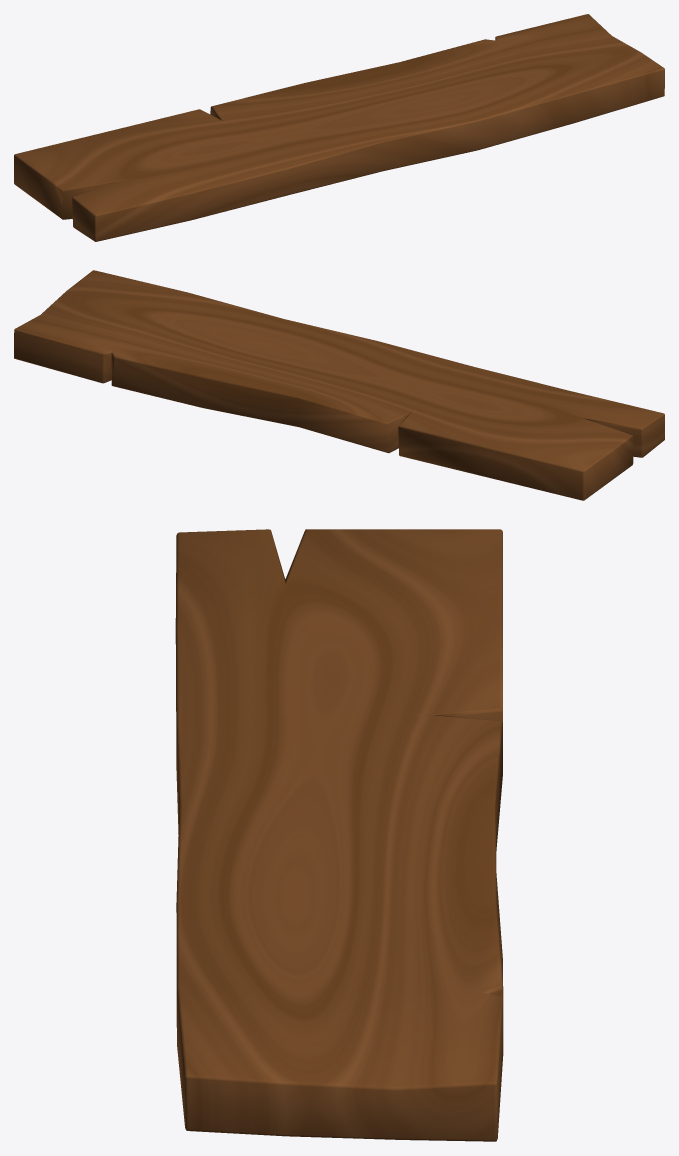
Rendered from Wood Plank 2.fbx.
3 renders of one model, top to bottom at view 1: azimuth 30°, elevation 25°; view 2: azimuth 150°, elevation 25°; view 3: azimuth 270°, elevation 25°, orthographic. The views are drawn at different scales.
Parts seen in each view (by area): view 1: Wood Plank 2; view 2: Wood Plank 2; view 3: Wood Plank 2.
Part boxes in pixels (bbox=[...]): Wood Plank 2: bbox=[14, 14, 664, 241]; Wood Plank 2: bbox=[14, 270, 664, 500]; Wood Plank 2: bbox=[175, 529, 503, 1141].
Bounding box in the file's own units: 181 × 10.58 × 44.81.
Materials: 1 (1 with a texture image).
